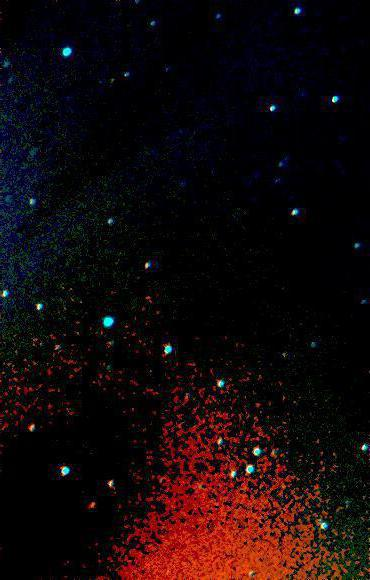star: (99, 66, 129, 96)
